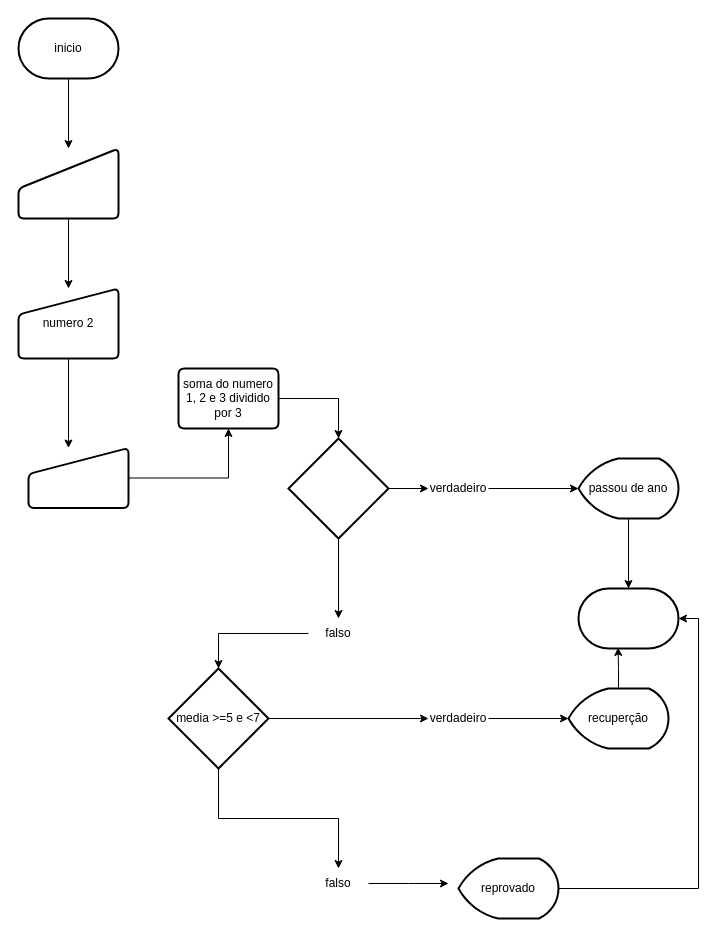
Image size: 724x936. Some labels were removed from this diagram. The shapes that lost their labels are listed below. From the top down, each one's box as (x1, y1, x2, y2) in pixels, then its label:
(17, 147, 119, 219): numero 1
(27, 446, 129, 508): numero 3
(287, 437, 389, 539): média >=7
(577, 587, 679, 649): fim
